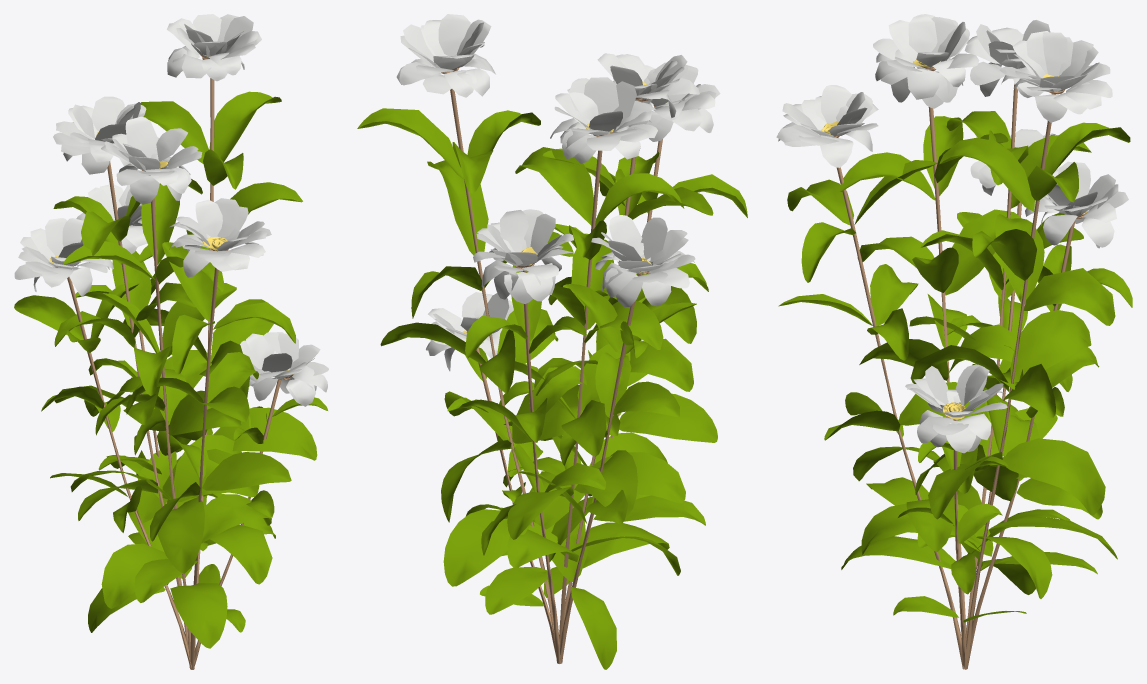
The model's file is realjasmine.glb.
3 views of the same model, side by side, from view 1: azimuth 30°, elevation 25°; view 2: azimuth 150°, elevation 25°; view 3: azimuth 270°, elevation 25° (orthographic). The views are drawn at different scales.
Visible parts, largest first — view 1: Jasmine_2; view 2: Jasmine_2; view 3: Jasmine_2.
Part boxes in pixels (x1,y1,x2,y2): Jasmine_2: (14, 14, 328, 669); Jasmine_2: (357, 14, 747, 669); Jasmine_2: (776, 14, 1132, 669).
Size of the model in its own units: 0.1575 by 0.32 by 0.1574.
